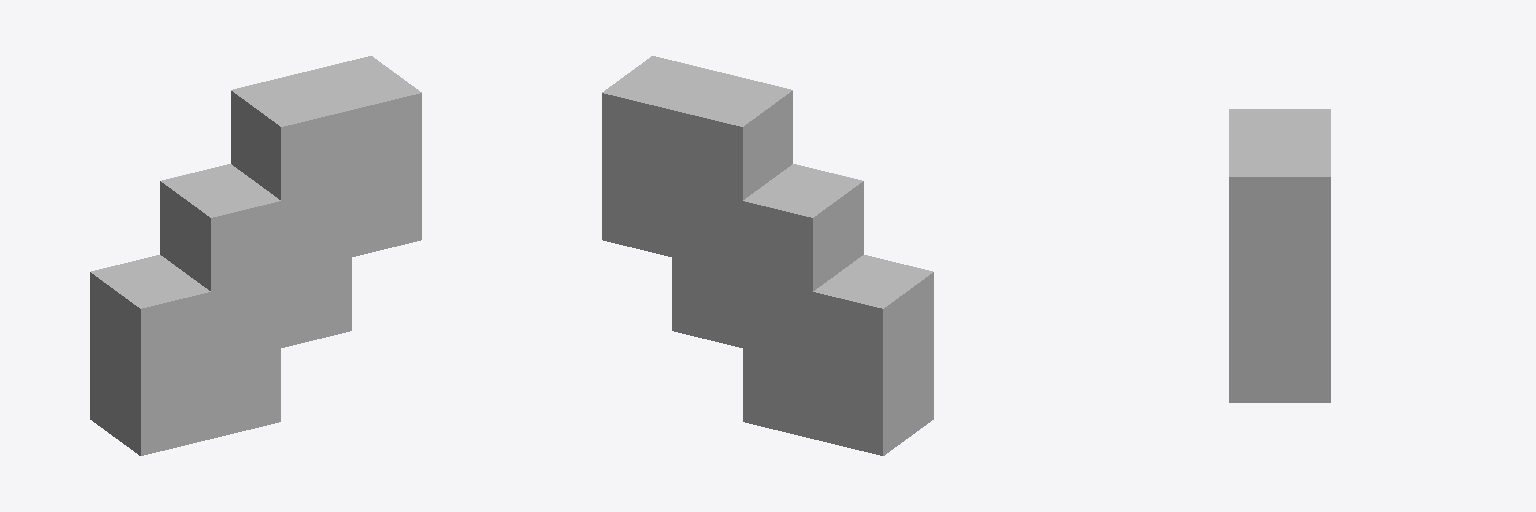
The model's file is right gripper.obj.
The picture shows the model from 3 angles: view 1: azimuth 30°, elevation 25°; view 2: azimuth 150°, elevation 25°; view 3: azimuth 270°, elevation 25°; orthographic projection.
Visible parts, largest first — view 1: Right_Gripper_Cube.002; view 2: Right_Gripper_Cube.002; view 3: Right_Gripper_Cube.002.
Part boxes in pixels (x1,y1,x2,y2): Right_Gripper_Cube.002: (90, 56, 421, 455); Right_Gripper_Cube.002: (602, 56, 933, 455); Right_Gripper_Cube.002: (1229, 109, 1330, 402).
Size of the model in its own units: 4 by 4 by 1.25.